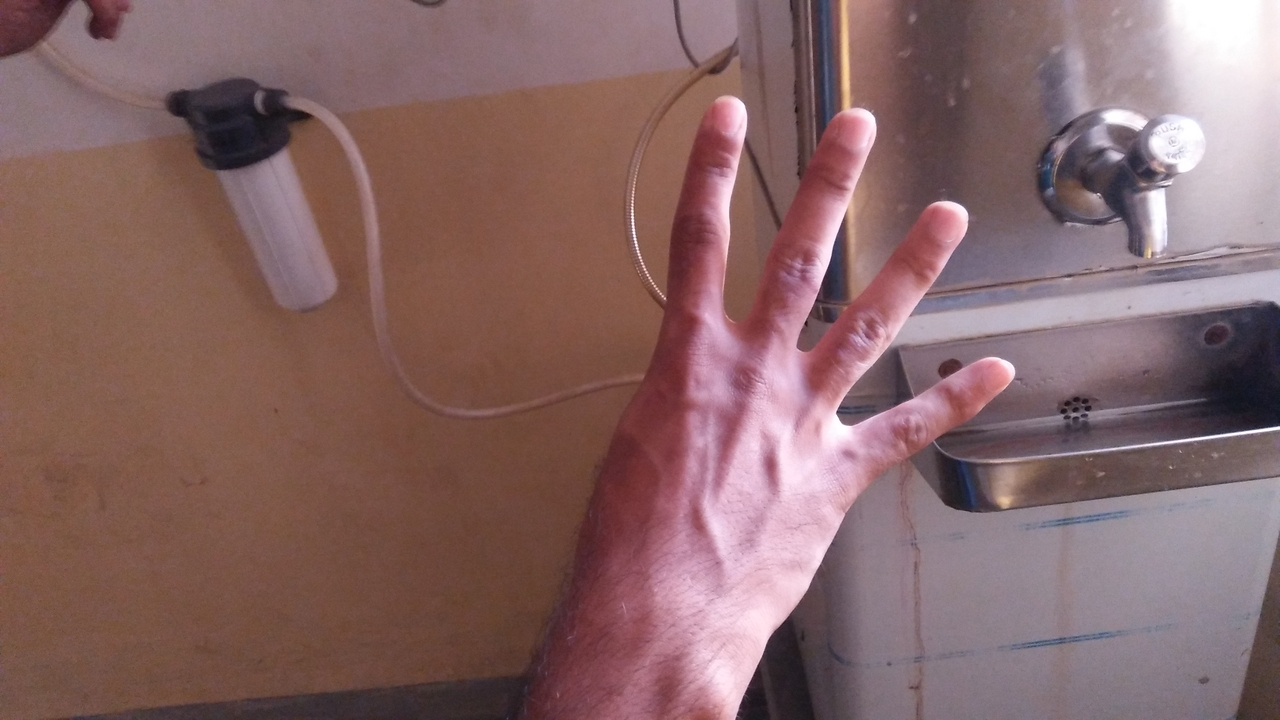fingertip: (950, 354, 1028, 406), (914, 190, 982, 248), (694, 86, 754, 146), (824, 100, 884, 158)
